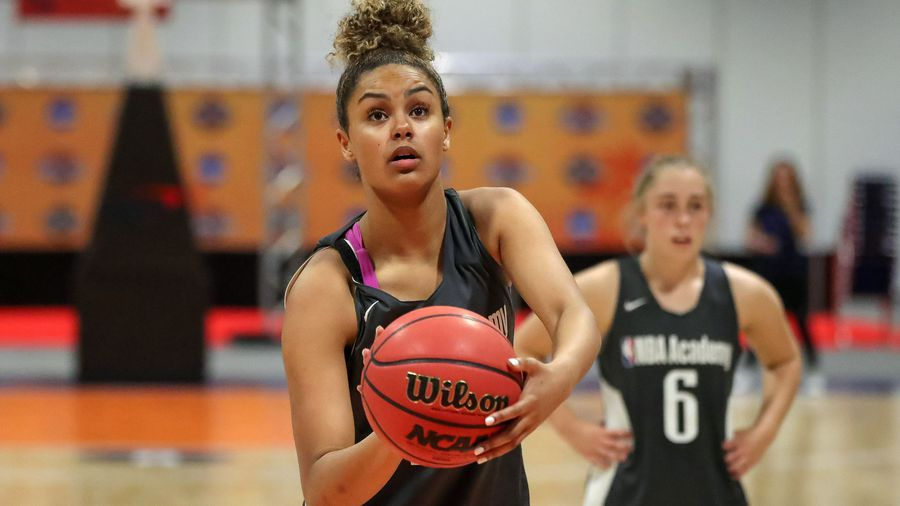b_ball: (361, 303, 521, 475)
face: (329, 21, 470, 205), (632, 151, 718, 259)
player: (270, 1, 585, 503), (593, 110, 816, 506)
